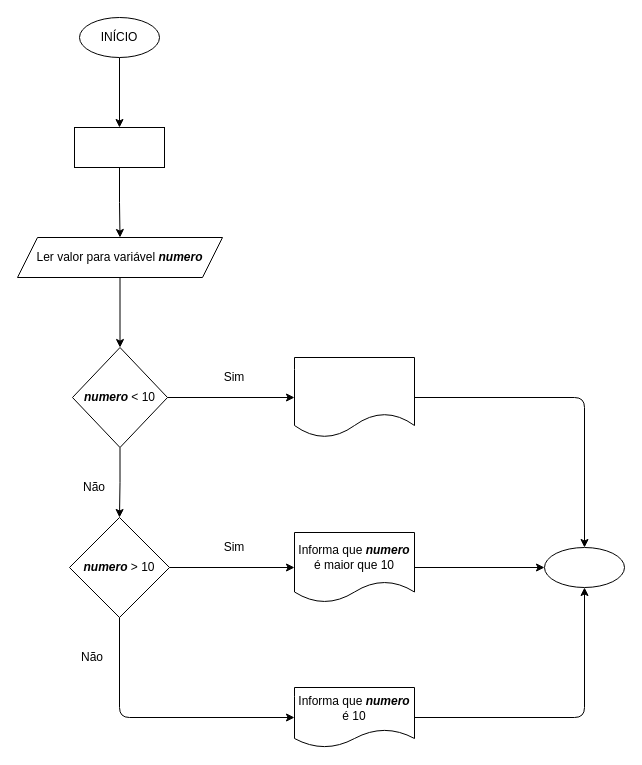
Image size: 642x765. Some labels were removed from this diagram. The shapes that lost their labels are listed below. From the top down, each one's box as (x1, y1, x2, y2) in pixels, then its label:
(74, 126, 164, 168): real numero
(294, 356, 414, 438): Informa que numero é menor que 10
(544, 546, 624, 588): FIM
